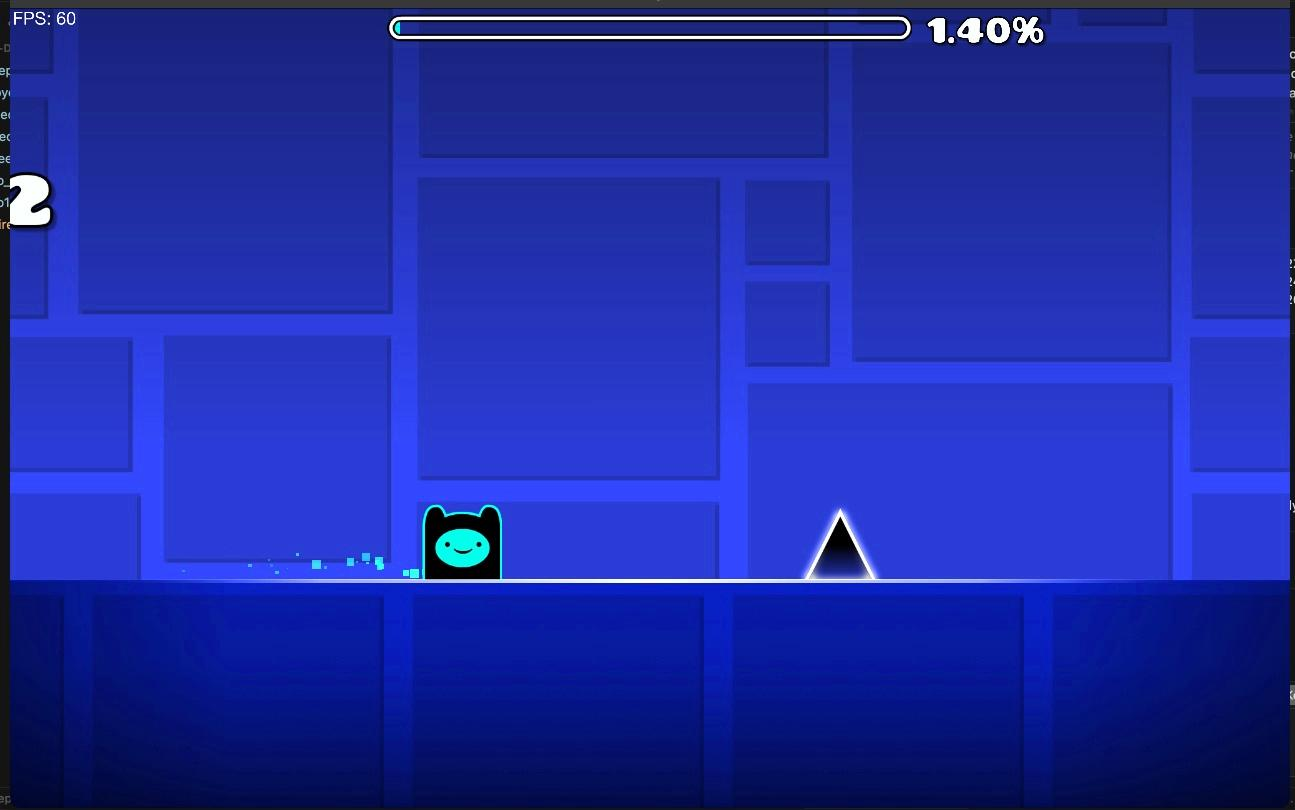block: (10, 583, 1290, 806)
player: (423, 505, 501, 577)
spike: (806, 510, 876, 578)
